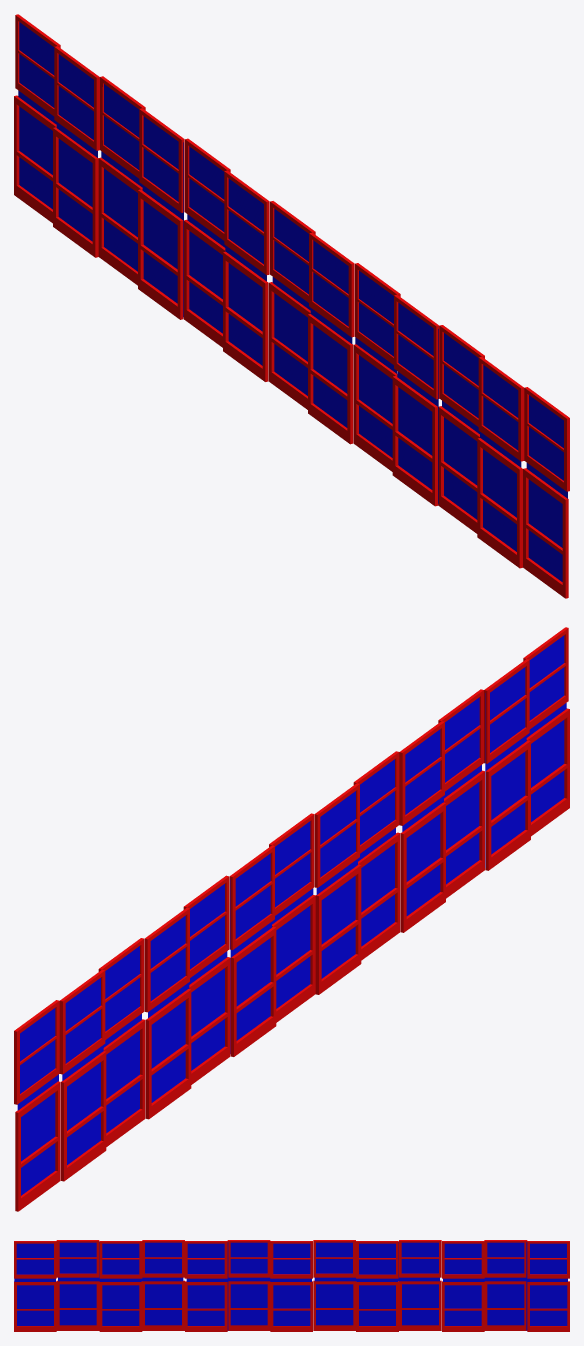
File: large_windows.FBX
3 views of the same model, one above another, from view 1: azimuth 30°, elevation 25°; view 2: azimuth 150°, elevation 25°; view 3: azimuth 270°, elevation 25° (orthographic). The views are drawn at different scales.
Parts seen in each view (by area): view 1: polySurface73; view 2: polySurface73; view 3: polySurface73.
Part boxes in pixels (bbox=[...]): polySurface73: bbox=[14, 14, 569, 598]; polySurface73: bbox=[14, 627, 569, 1211]; polySurface73: bbox=[14, 1240, 569, 1331].
Size of the model in its own units: 1092 by 24303 by 135180.
